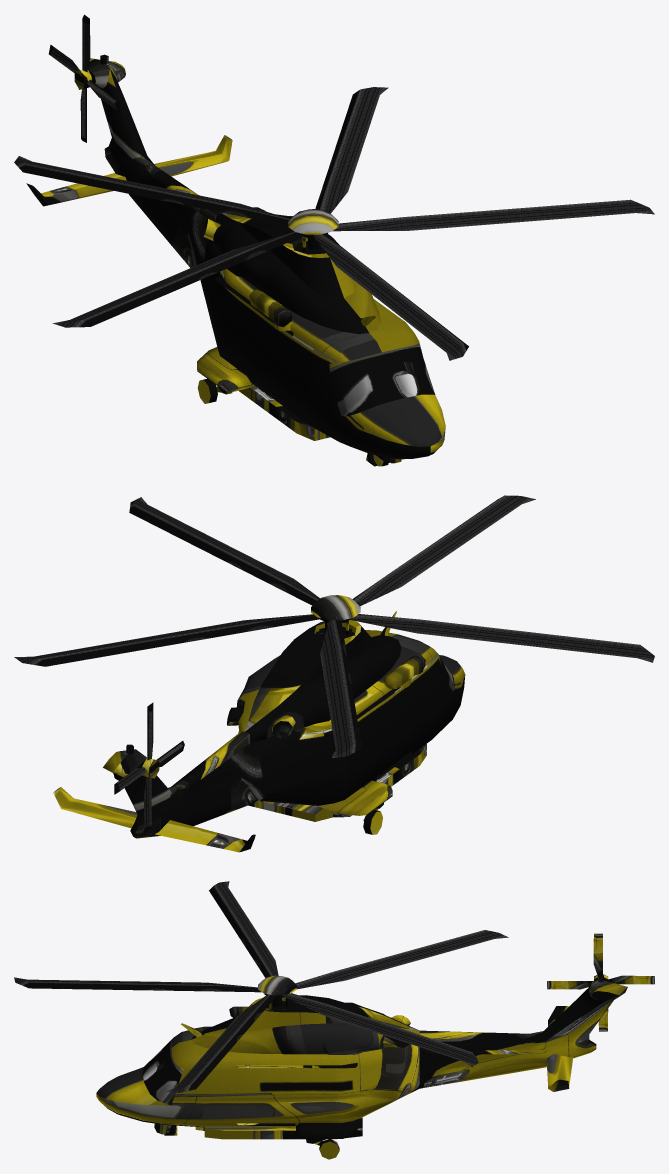
The model's file is helicopter 3.fbx.
The picture shows the model from 3 angles, top to bottom: view 1: azimuth 30°, elevation 25°; view 2: azimuth 150°, elevation 25°; view 3: azimuth 270°, elevation 25°; orthographic projection. The views are drawn at different scales.
Parts seen in each view (by area): view 1: body, par, par_2; view 2: body, par, par_2; view 3: body, par, par_2.
Part boxes in pixels (x1,y1,x2,y2): body: (26, 54, 445, 466); par: (14, 87, 654, 360); par_2: (48, 14, 120, 142); body: (53, 611, 465, 852); par: (14, 495, 654, 758); par_2: (114, 702, 184, 832); body: (96, 974, 627, 1159); par: (14, 881, 508, 1092); par_2: (547, 933, 654, 1031).
Bounding box in the file's own units: 1031 × 429 × 1311.
